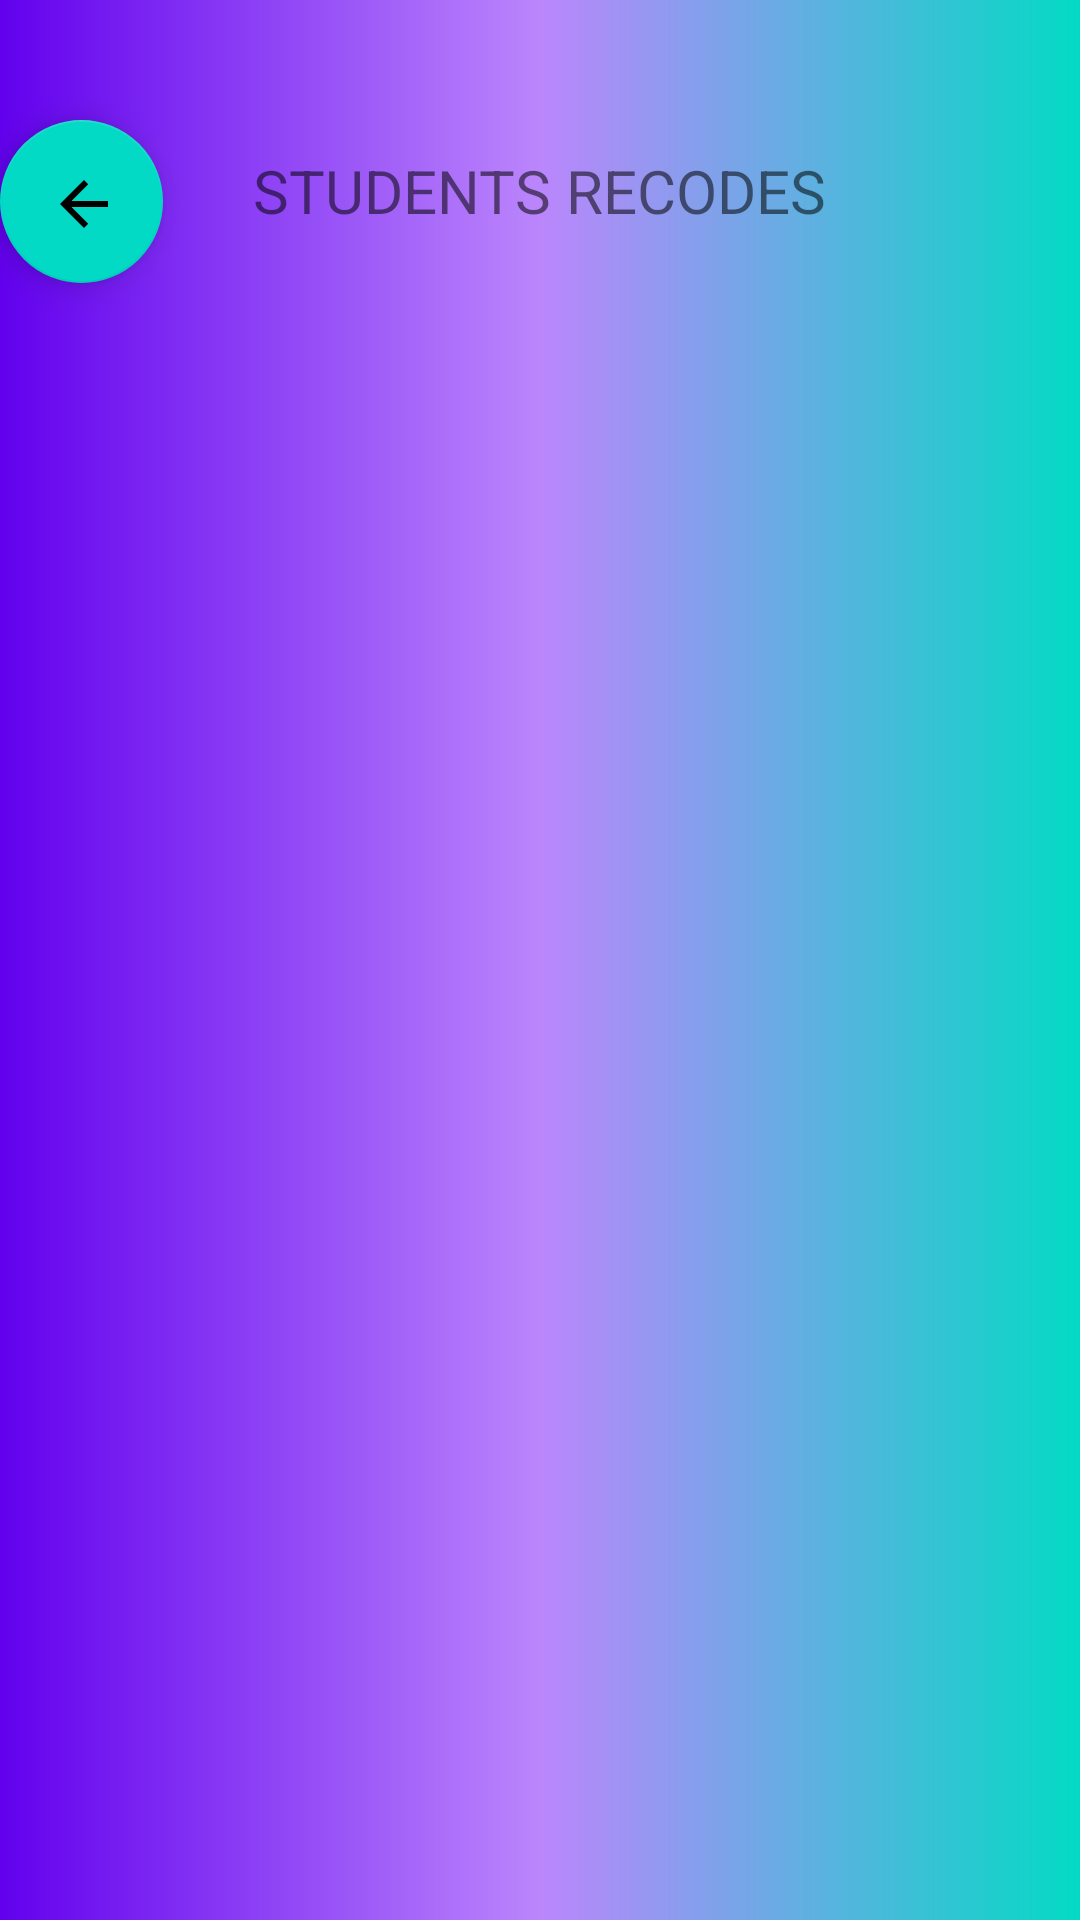

Named icons in this screenshot (1080px×1920px) and their centers, (x,y):
arrow back: (81,201)
